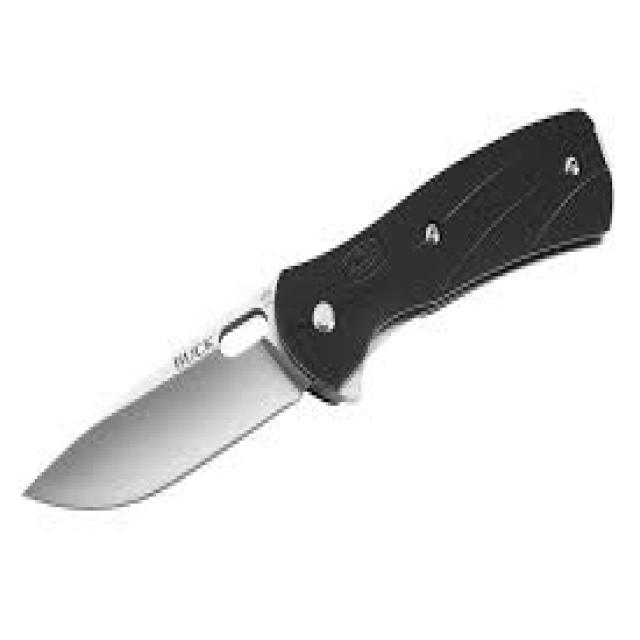knives: (19, 98, 616, 518)
